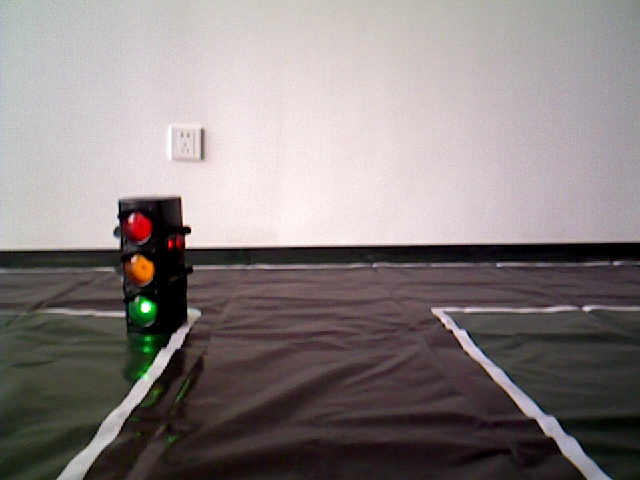green: (121, 203, 179, 326)
